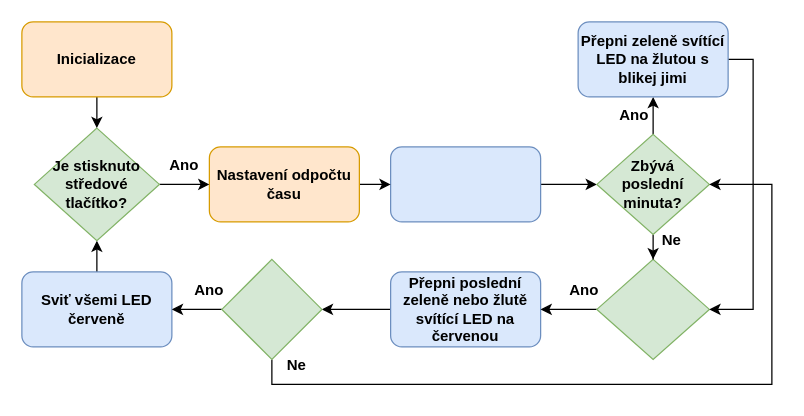
This 804x416 diagram has some shape labels left out. Each missing label, with the centre of its shape:
Sviť všemi LED zeleně: (465,184)
Uběhlo N/12 času?: (652,308)
Vypršel čas?: (271,308)
